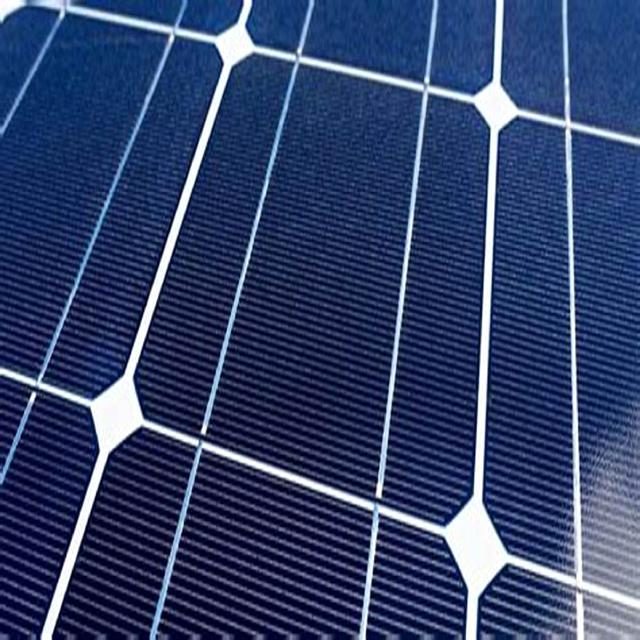crack: (108, 8, 504, 572), (27, 359, 488, 640), (481, 89, 639, 640)
